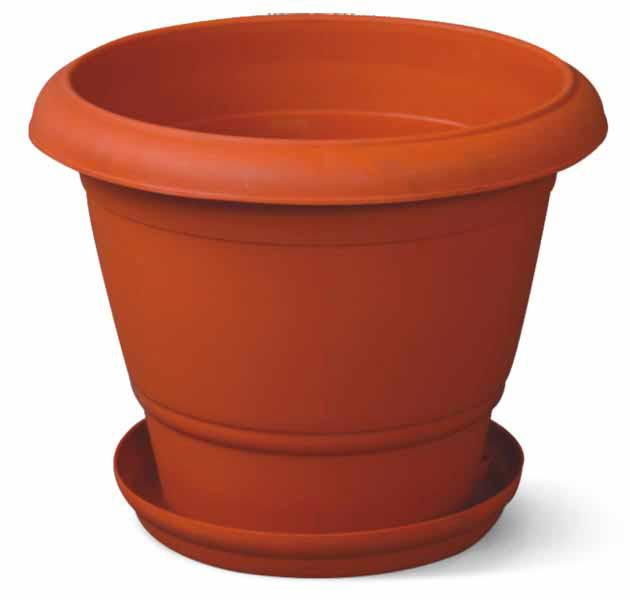flowerpot: (30, 12, 610, 580)
